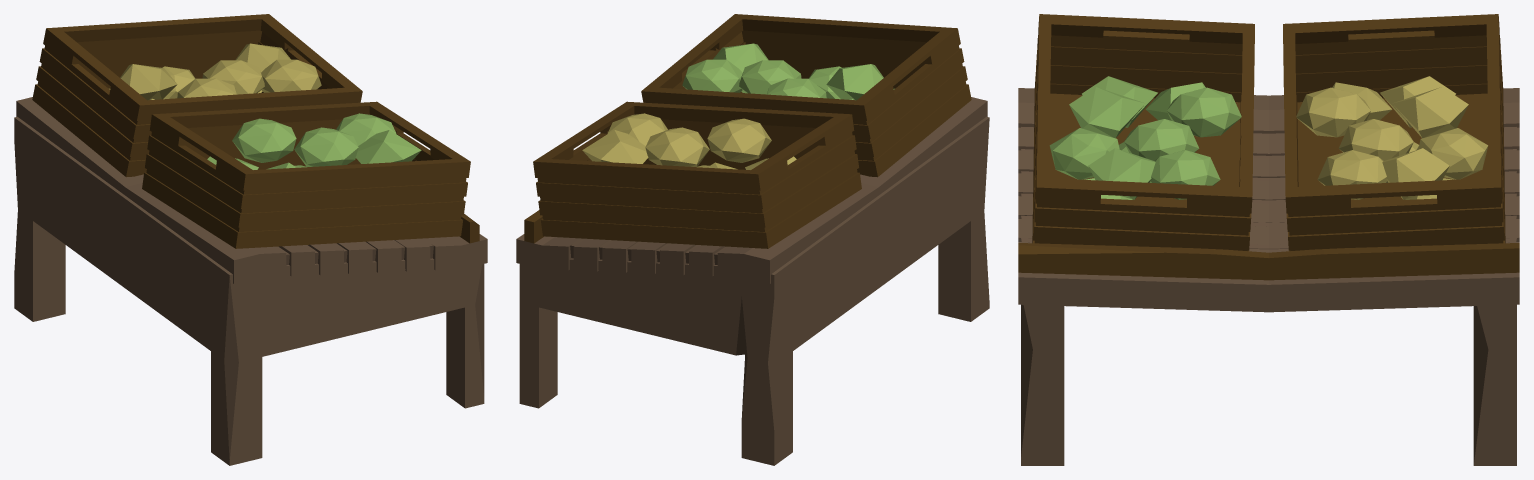
The model's file is Store_props_var_02.fbx.
The picture shows the model from 3 angles, left to right: view 1: azimuth 30°, elevation 25°; view 2: azimuth 150°, elevation 25°; view 3: azimuth 270°, elevation 25°; orthographic projection. The views are drawn at different scales.
Visible parts, largest first — view 1: Table_Var_02; view 2: Table_Var_02; view 3: Table_Var_02.
Part boxes in pixels (x1,y1,x2,y2): Table_Var_02: (14,14,487,465); Table_Var_02: (516,14,989,465); Table_Var_02: (1018,14,1519,465).
Bounding box in the file's own units: 158 × 165 × 232.
